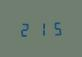five: (49, 19, 63, 36)
one: (34, 20, 48, 36)
two: (18, 20, 32, 37)
